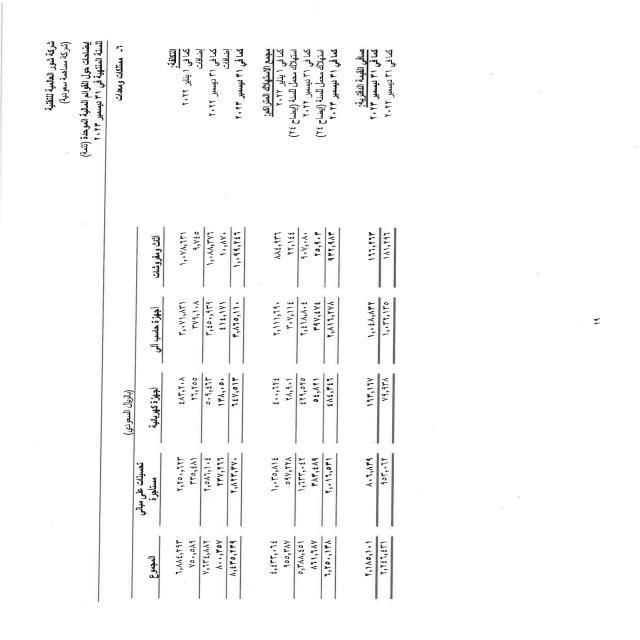notes: (80, 41, 90, 163)
table: (123, 220, 433, 615)
